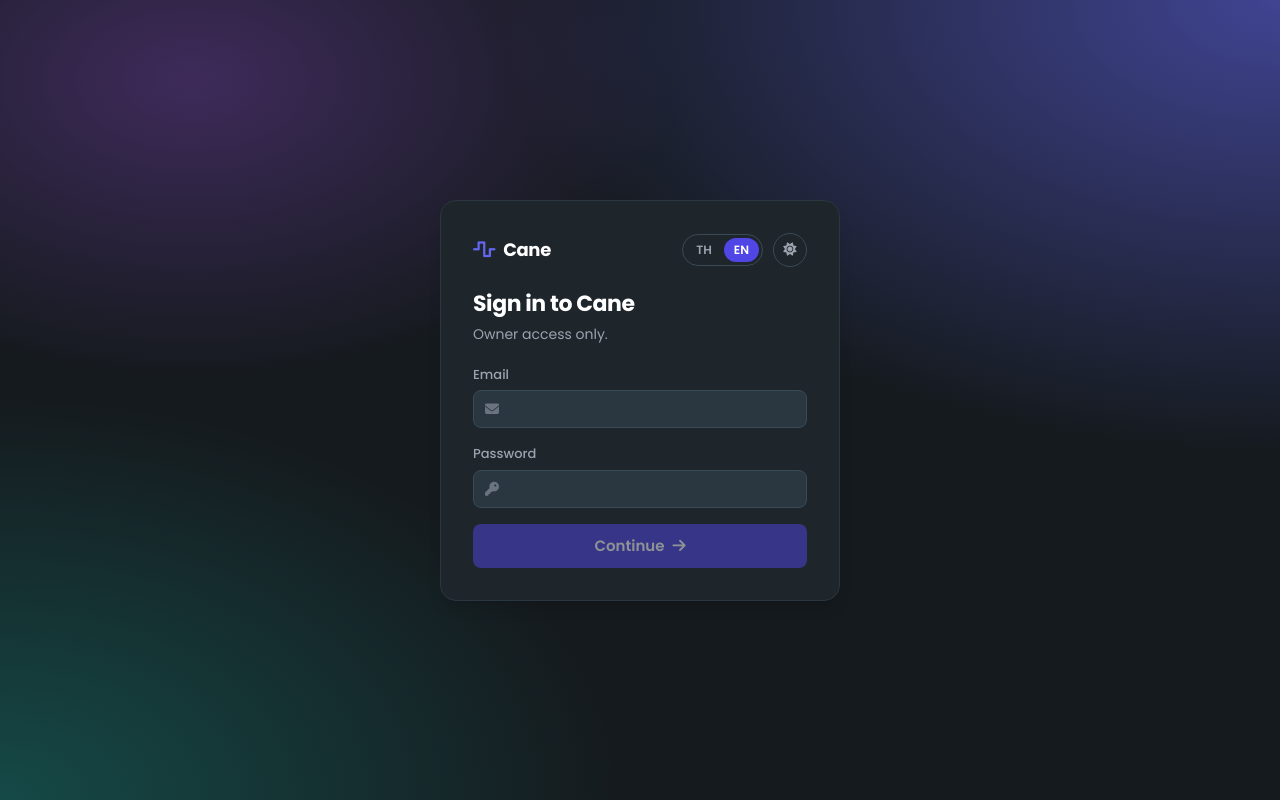
Test case: Login › on 401: shows loginFailed, clears the password, returns to step 1 and keeps the email
Step 1. Type "owner@cane.local" into the field labelled "Email" → (640, 409), box [473,390,807,428]
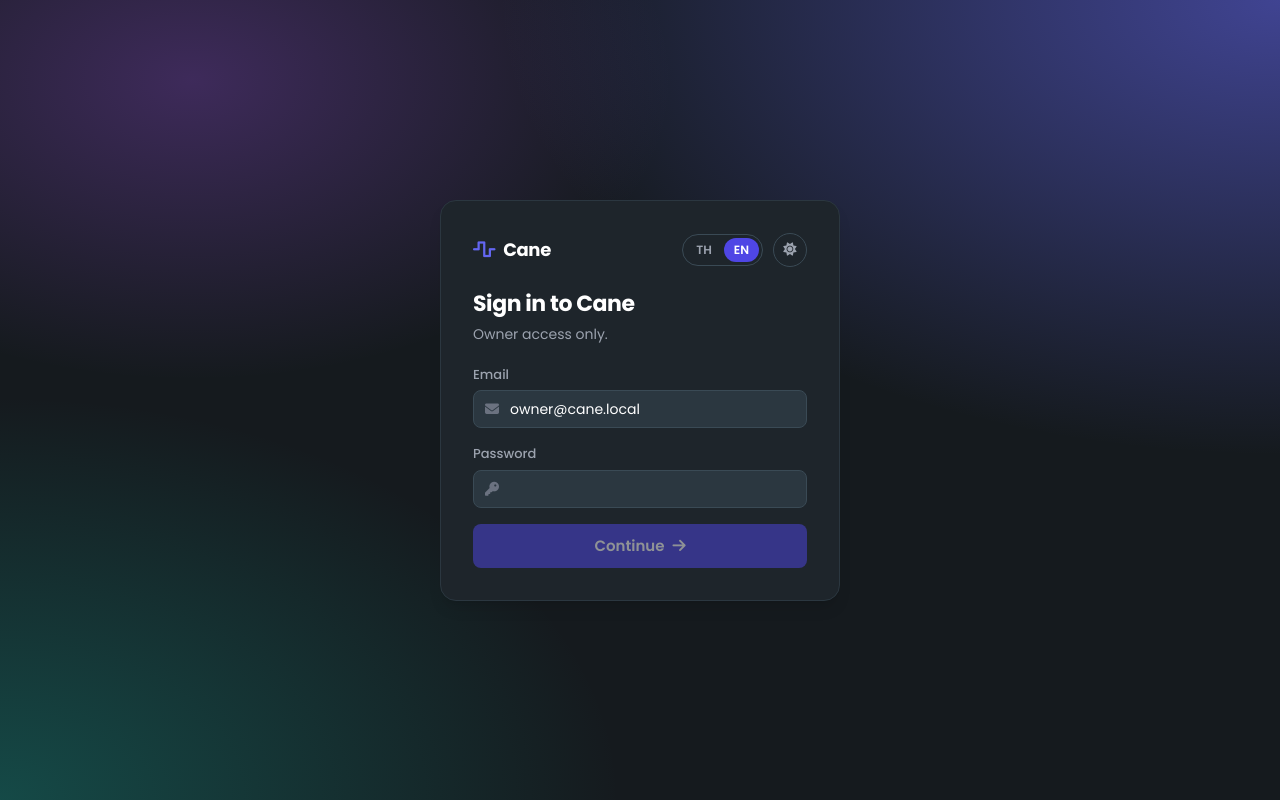
Step 2. Type "cane" into the password field labelled "Password" → (640, 488), box [473,470,807,508]
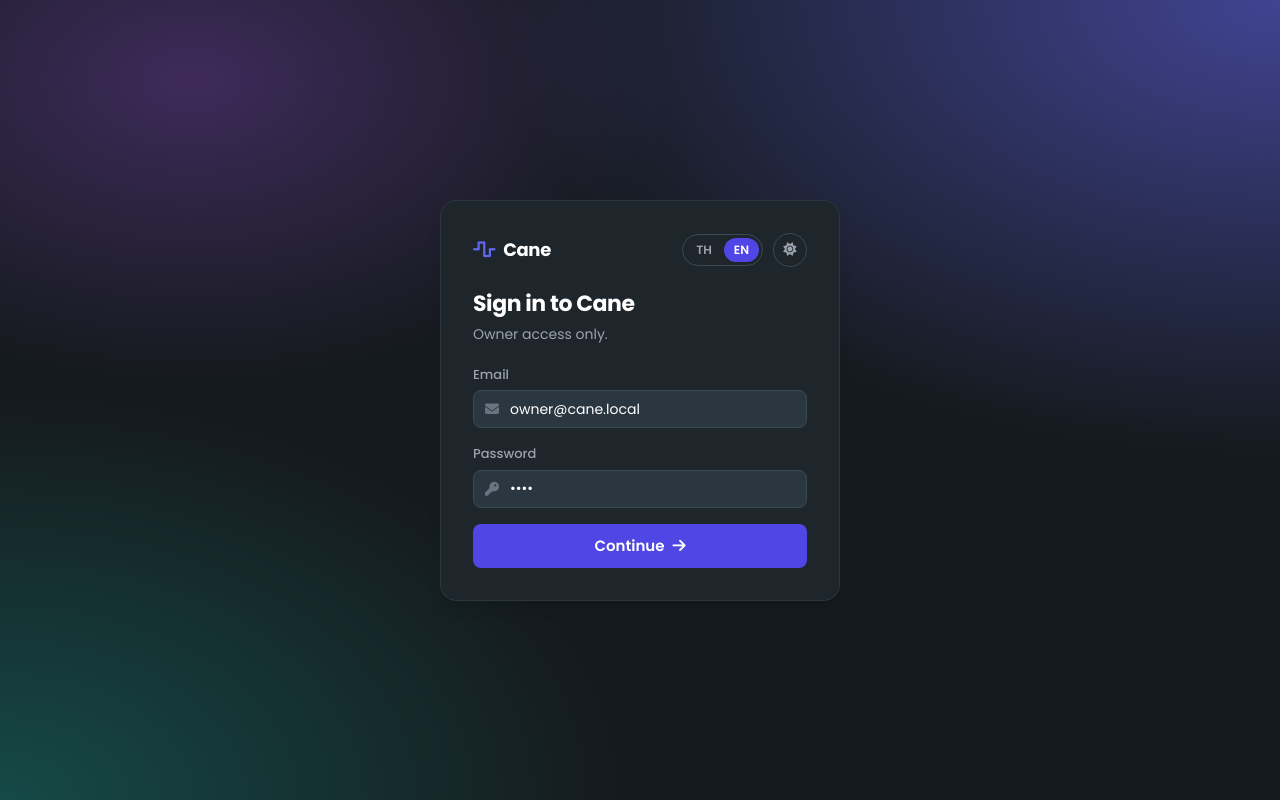
Step 3. Click the button "Continue" → click(640, 546), box [473,524,807,568]
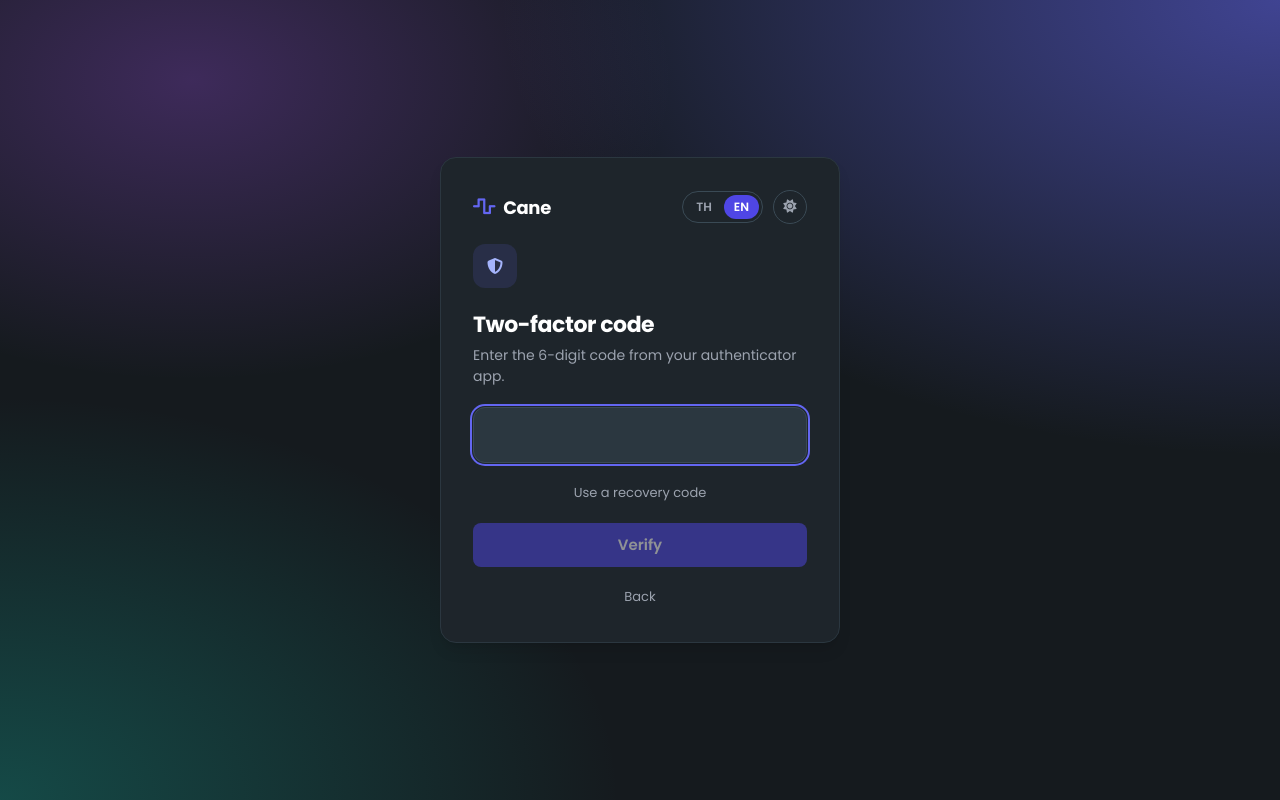
Step 4. Type "123456" into the field named "Two-factor code" → (640, 435), box [473,407,807,463]
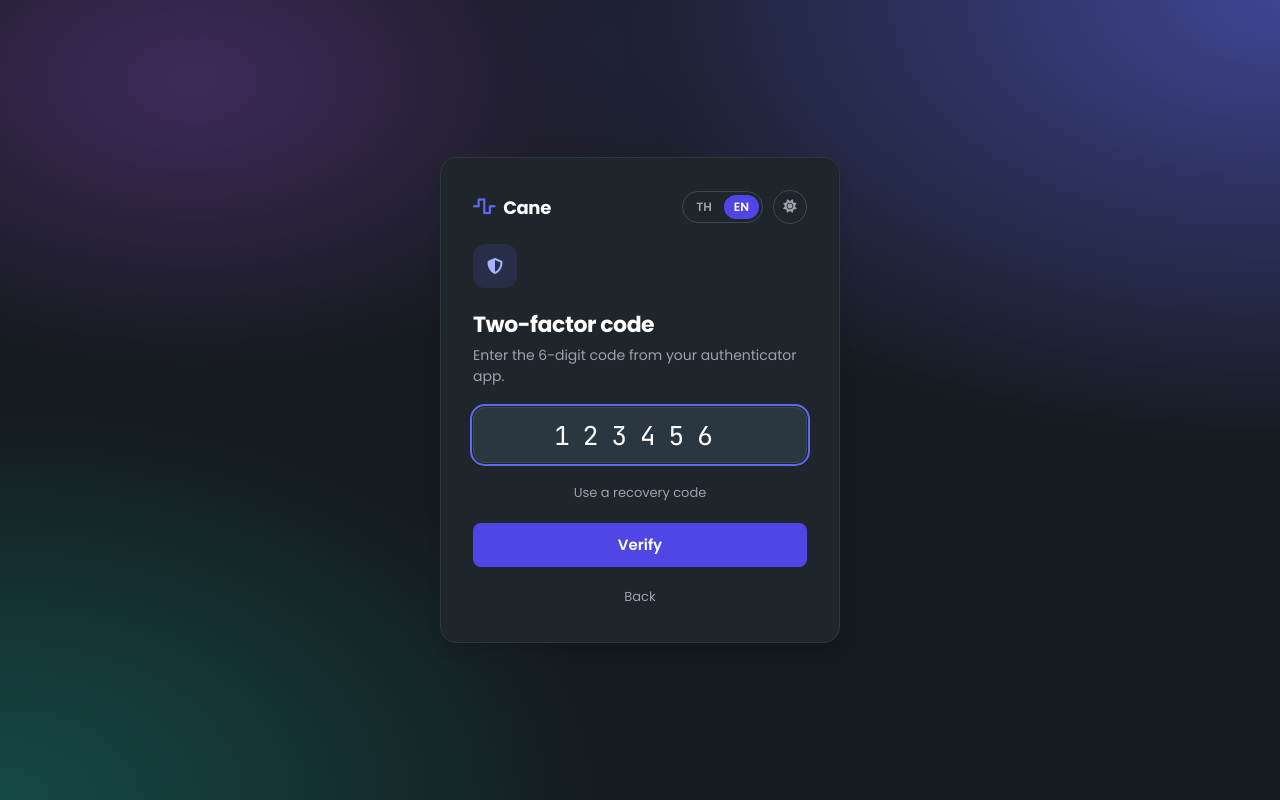
Step 5. Click the button "Verify" → click(640, 544), box [473,522,807,566]
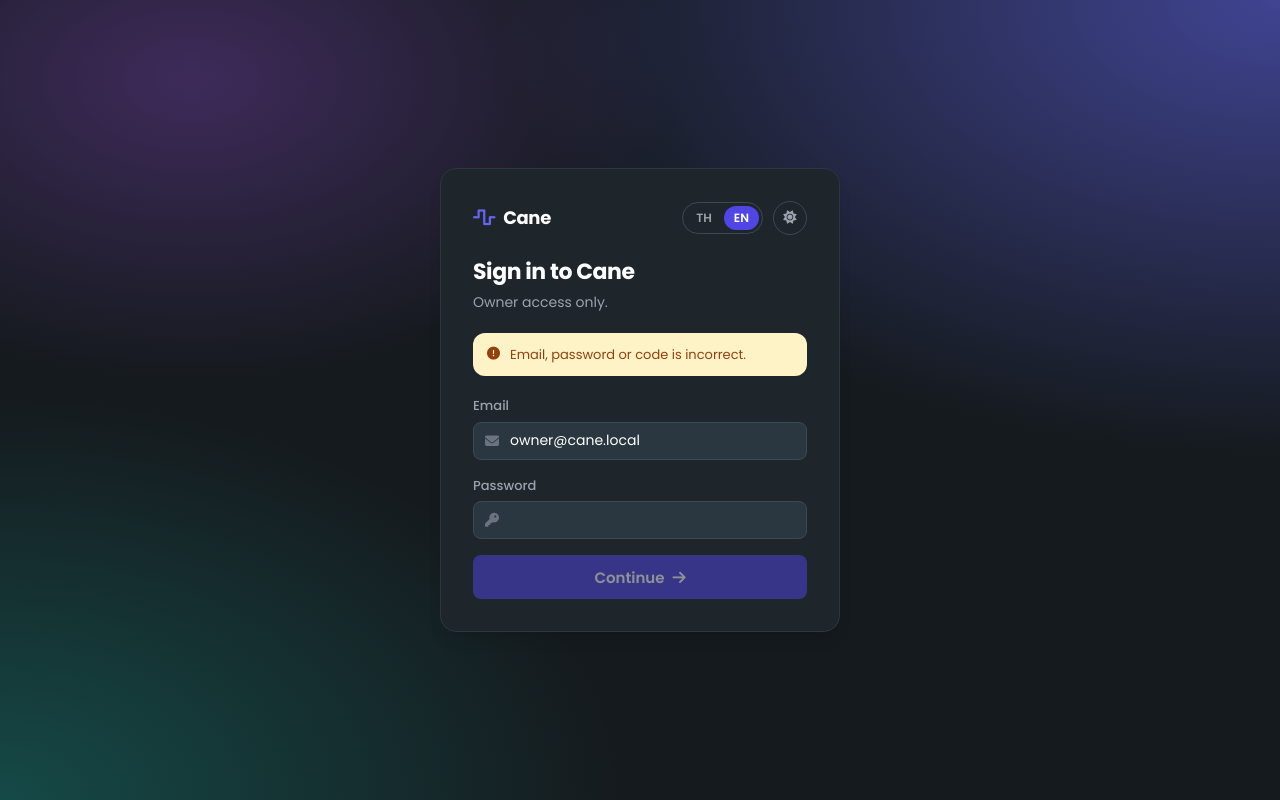
Expected: the message reads "Email, password or code is incorrect.", [510,345,746,364]
Expected: the field labelled "Email" holds "owner@cane.local", [473,422,807,460]
Expected: the password field labelled "Password" is empty, [473,501,807,539]
